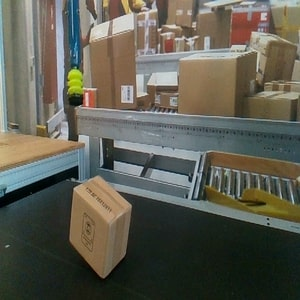box: (69, 175, 133, 280)
